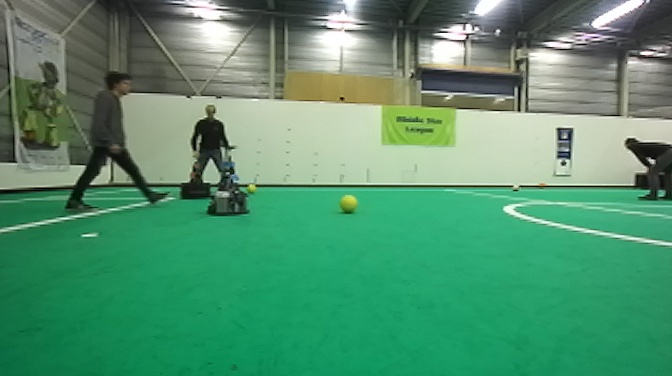ball: (338, 193, 359, 213), (244, 181, 258, 194), (509, 181, 521, 194)
human: (61, 69, 173, 215), (187, 103, 234, 195), (624, 134, 672, 202)
robot: (203, 143, 250, 217), (177, 153, 215, 201)
